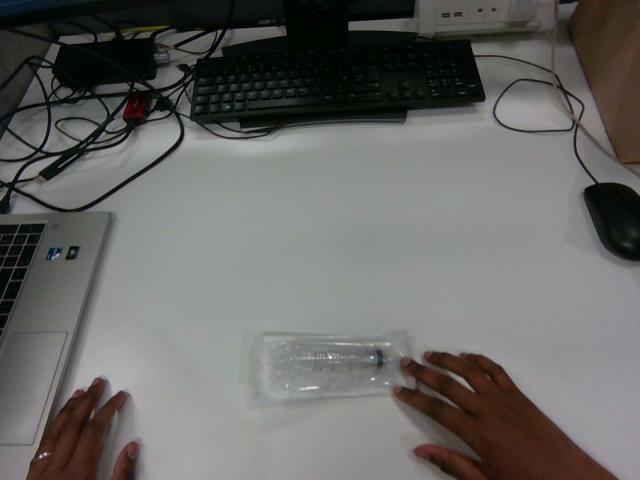syringe: (254, 333, 409, 400)
